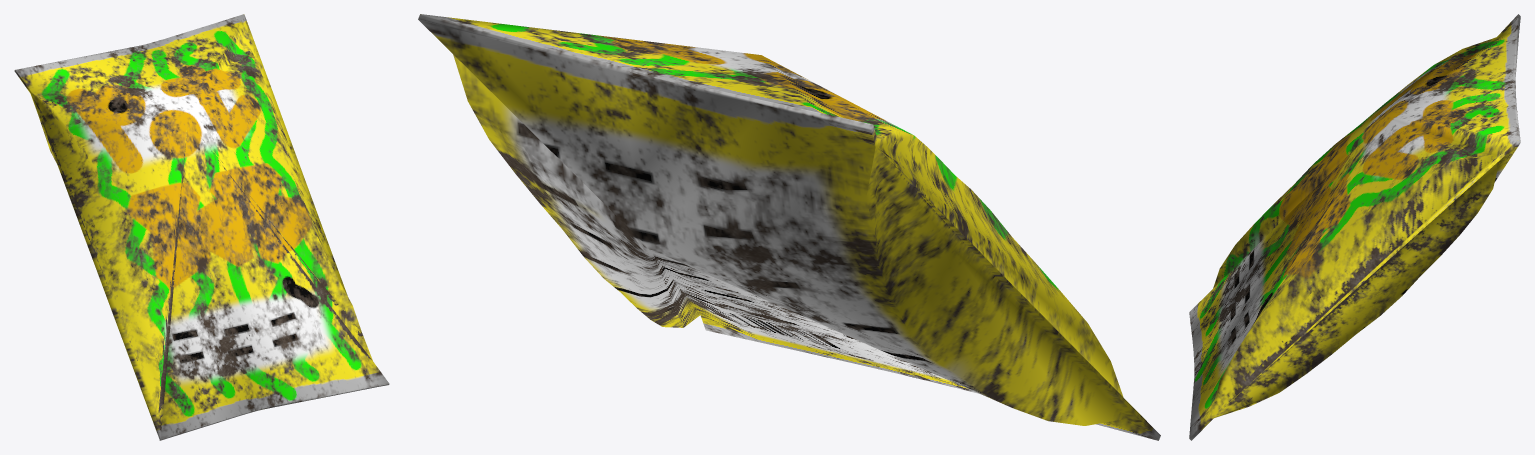
File: Patatas_low.obj
The picture shows the model from 3 angles, left to right: view 1: azimuth 30°, elevation 25°; view 2: azimuth 150°, elevation 25°; view 3: azimuth 270°, elevation 25°; orthographic projection. The views are drawn at different scales.
Parts seen in each view (by area): view 1: Bolsa_LowPoly; view 2: Bolsa_LowPoly; view 3: Bolsa_LowPoly.
Part boxes in pixels (<box>): Bolsa_LowPoly: <box>14,14,389,440</box>; Bolsa_LowPoly: <box>418,14,1160,440</box>; Bolsa_LowPoly: <box>1189,14,1520,440</box>.
Size of the model in its own units: 1.55 by 1.72 by 1.72.
1 material, 1 textured.
